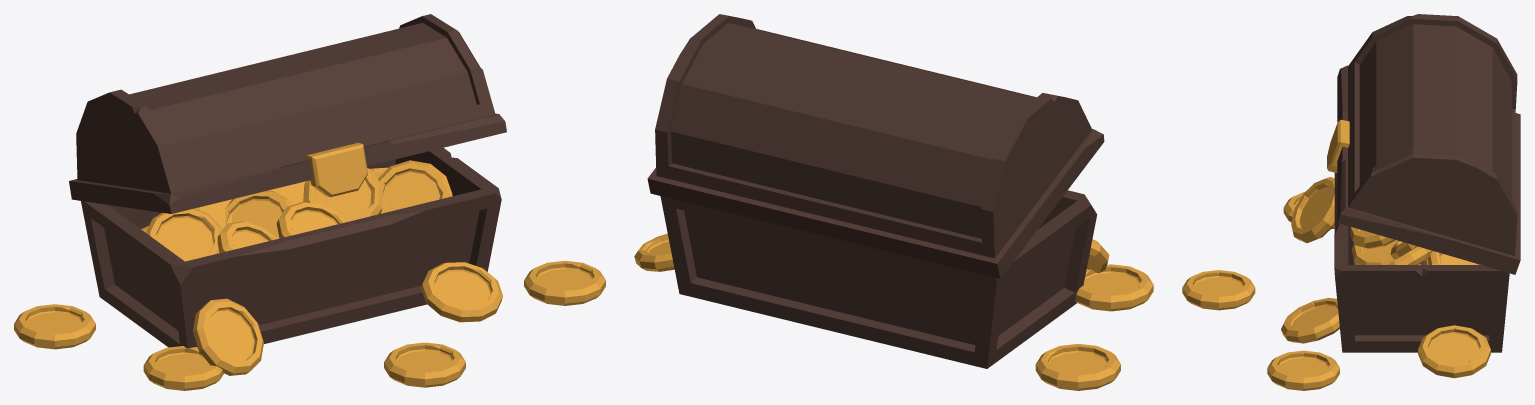
Rendered from Chest Animated.fbx.
The picture shows the model from 3 angles, left to right: view 1: azimuth 30°, elevation 25°; view 2: azimuth 150°, elevation 25°; view 3: azimuth 270°, elevation 25°; orthographic projection. The views are drawn at different scales.
Visible parts, largest first — view 1: Top, Bottom, Circle.017, Circle.019, Circle.014, Circle.015, Circle.020, Circle.002, Circle.006, Circle.016, Lock, Circle.001 (+3 smaller); view 2: Top, Bottom, Circle.020, Circle.016, Circle.018, Circle.017; view 3: Top, Bottom, Circle.018, Circle.015, Circle.014, Circle.017, Circle.019, Circle.009, Lock, Circle, Circle.006, Circle.005.
Boxes of the visible parts, bbox=[...] form: Top: bbox=[69, 14, 506, 213]; Bottom: bbox=[81, 147, 501, 348]; Circle.017: bbox=[193, 298, 263, 375]; Circle.019: bbox=[421, 262, 502, 322]; Circle.014: bbox=[524, 260, 605, 305]; Circle.015: bbox=[384, 342, 465, 387]; Circle.020: bbox=[14, 304, 95, 349]; Circle.002: bbox=[146, 208, 222, 261]; Circle.006: bbox=[378, 160, 452, 213]; Circle.016: bbox=[143, 346, 223, 390]; Lock: bbox=[306, 142, 367, 197]; Circle.001: bbox=[303, 167, 383, 221]; Top: bbox=[647, 14, 1104, 278]; Bottom: bbox=[660, 190, 1097, 368]; Circle.020: bbox=[1035, 344, 1120, 390]; Circle.016: bbox=[1075, 264, 1153, 311]; Circle.018: bbox=[634, 233, 674, 271]; Circle.017: bbox=[1086, 239, 1109, 273]; Top: bbox=[1337, 14, 1520, 274]; Bottom: bbox=[1334, 172, 1509, 352]; Circle.018: bbox=[1418, 325, 1490, 378]; Circle.015: bbox=[1182, 270, 1255, 310]; Circle.014: bbox=[1267, 350, 1339, 390]; Circle.017: bbox=[1291, 177, 1334, 243]; Circle.019: bbox=[1281, 297, 1339, 343]; Circle.009: bbox=[1351, 240, 1398, 264]; Lock: bbox=[1327, 119, 1349, 172]; Circle: bbox=[1350, 227, 1395, 248]; Circle.006: bbox=[1388, 246, 1432, 264]; Circle.005: bbox=[1427, 251, 1478, 264].
Bounding box in the file's own units: 303 × 138 × 202.
